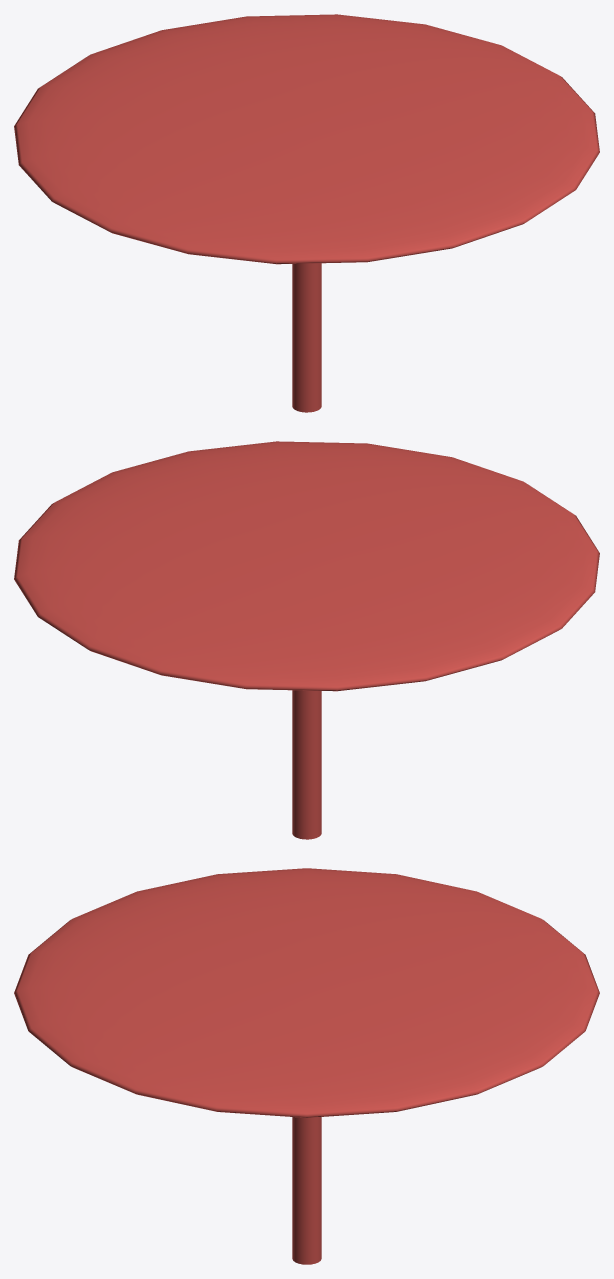
Rendered from circular_table_top.fbx.
The picture shows the model from 3 angles, top to bottom: view 1: azimuth 30°, elevation 25°; view 2: azimuth 150°, elevation 25°; view 3: azimuth 270°, elevation 25°; orthographic projection.
Visible parts, largest first — view 1: pSphere1, pCylinder1; view 2: pSphere1, pCylinder1; view 3: pSphere1, pCylinder1.
Boxes of the visible parts, x1,y1,x2,y2 form: pSphere1: [14, 14, 599, 264]; pCylinder1: [292, 263, 321, 412]; pSphere1: [14, 441, 599, 691]; pCylinder1: [292, 690, 321, 839]; pSphere1: [14, 868, 599, 1117]; pCylinder1: [292, 1117, 321, 1264].
Bounding box in the file's own units: 4 × 2.12 × 4.
